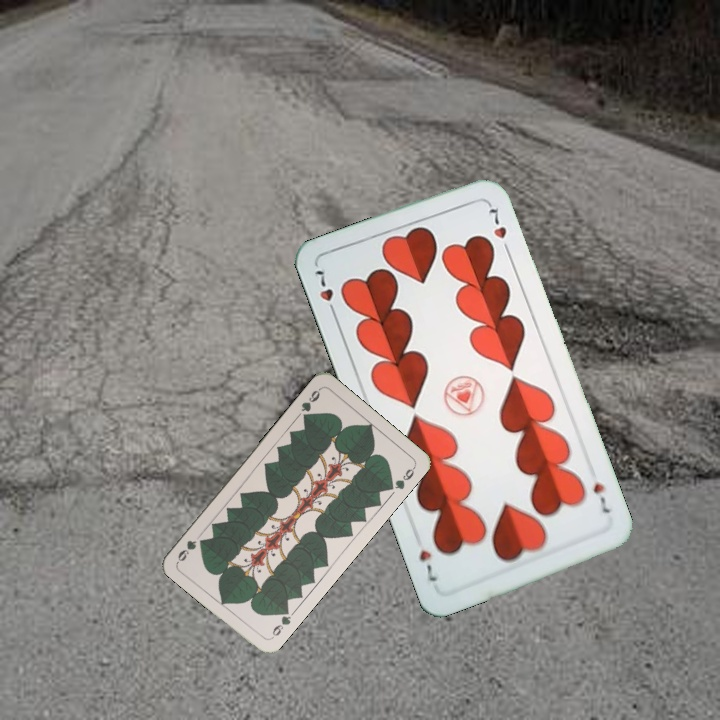G9: (266, 604, 294, 642), (297, 384, 323, 422)
H7: (310, 266, 340, 320), (589, 479, 613, 516)
